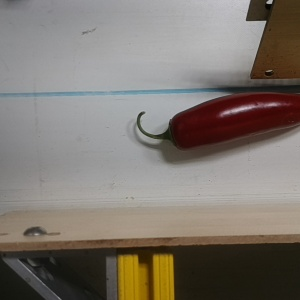Cut Point: (158, 111, 190, 151)
